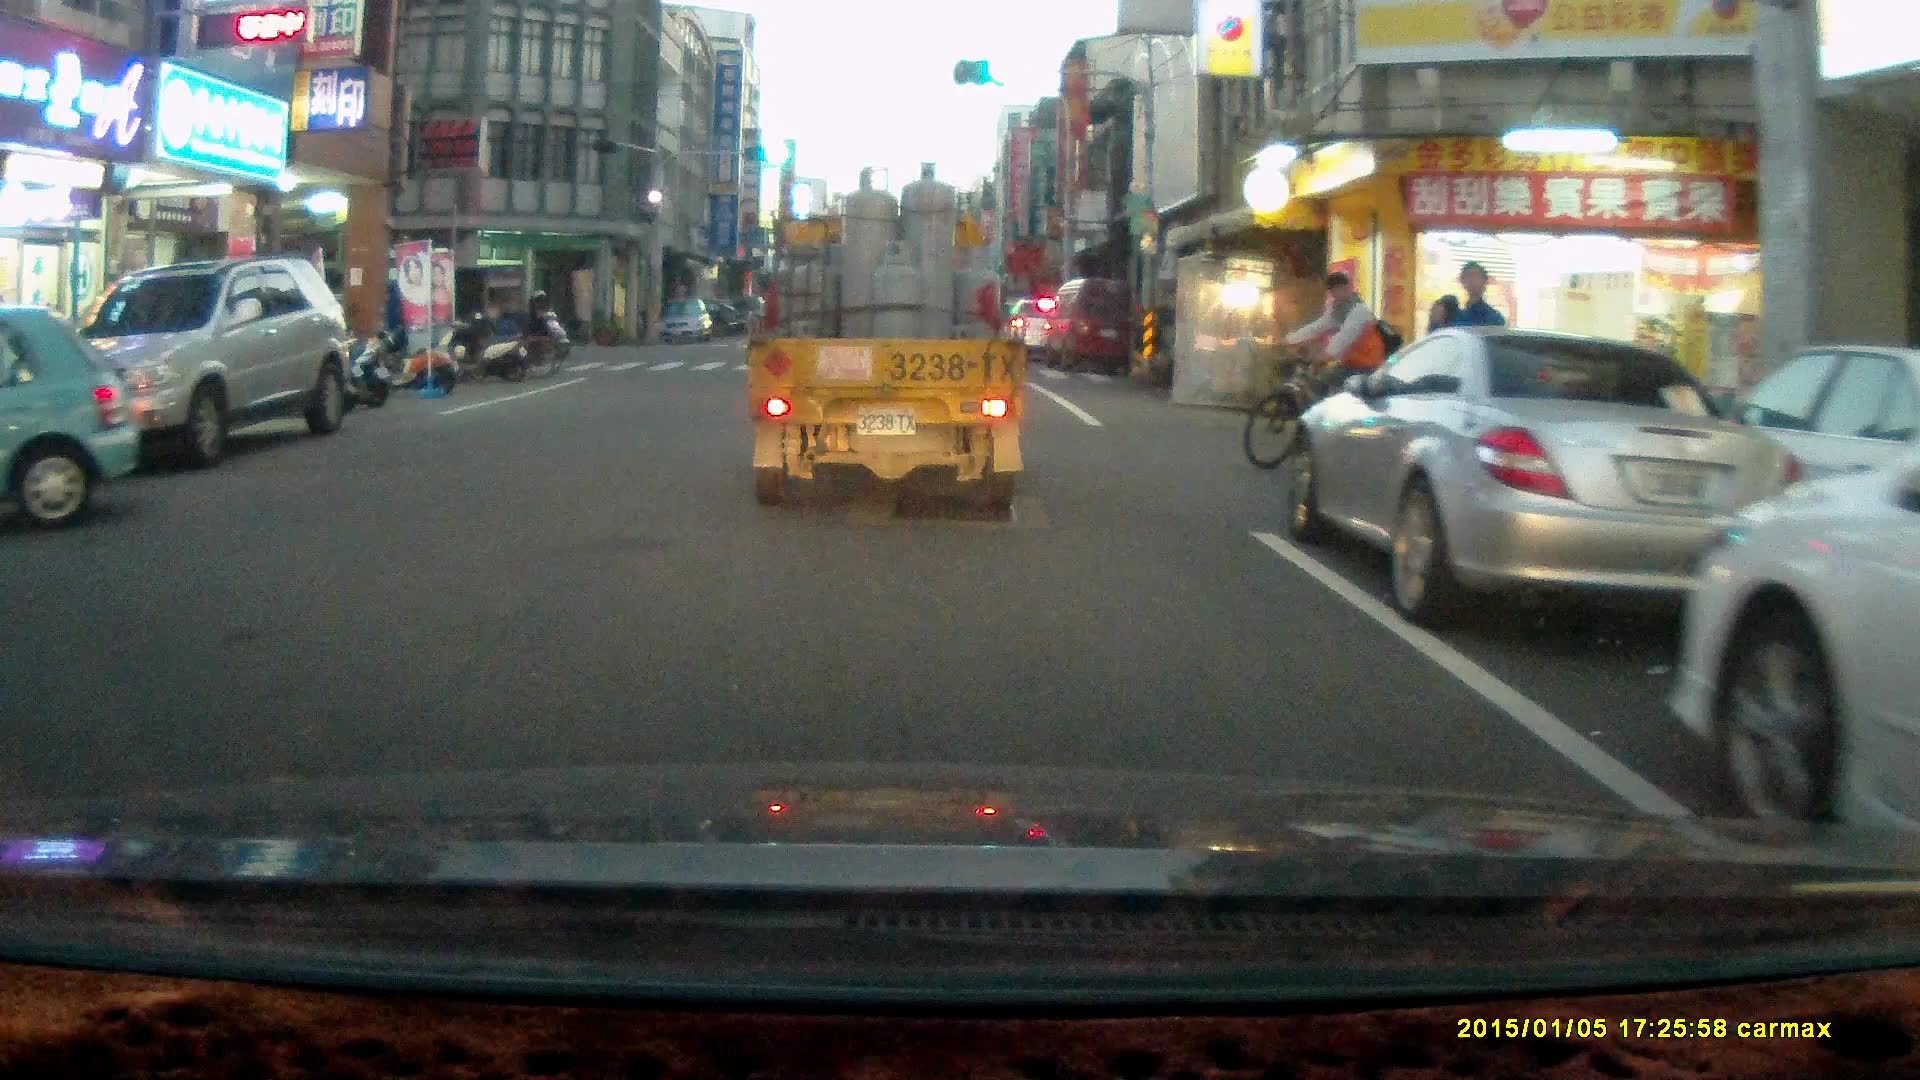rider: (1245, 269, 1417, 472), (509, 282, 573, 362)
vehicle: (1287, 328, 1792, 635), (1672, 425, 1920, 885), (747, 162, 1034, 515), (57, 256, 365, 465), (1, 314, 143, 533), (333, 261, 532, 365), (1047, 274, 1150, 370), (1030, 291, 1088, 361), (656, 296, 716, 348)
